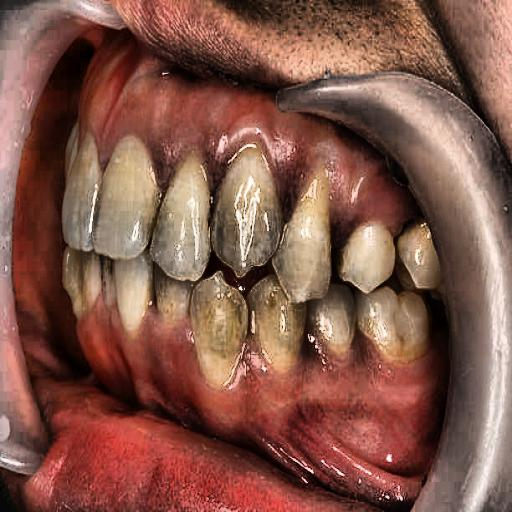Calculus: (276, 146, 354, 253)
